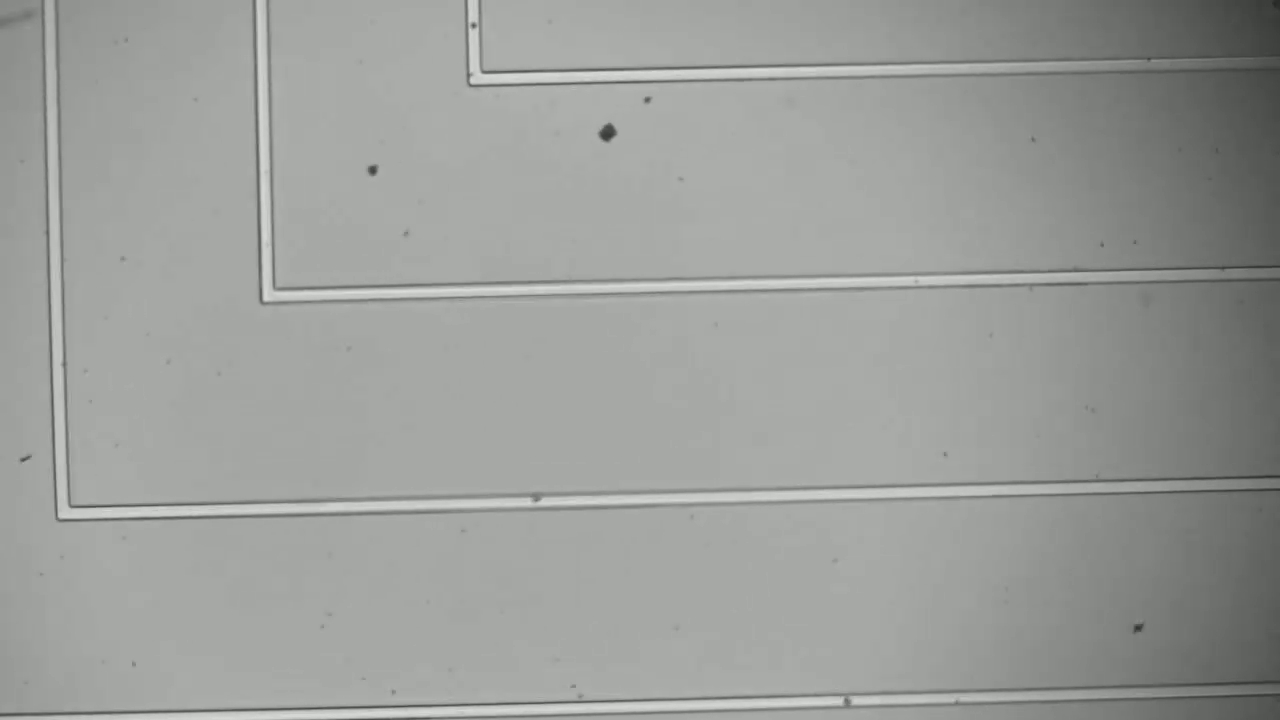stains_enbedded: (523, 485, 553, 519), (836, 686, 864, 716), (460, 12, 490, 36)
